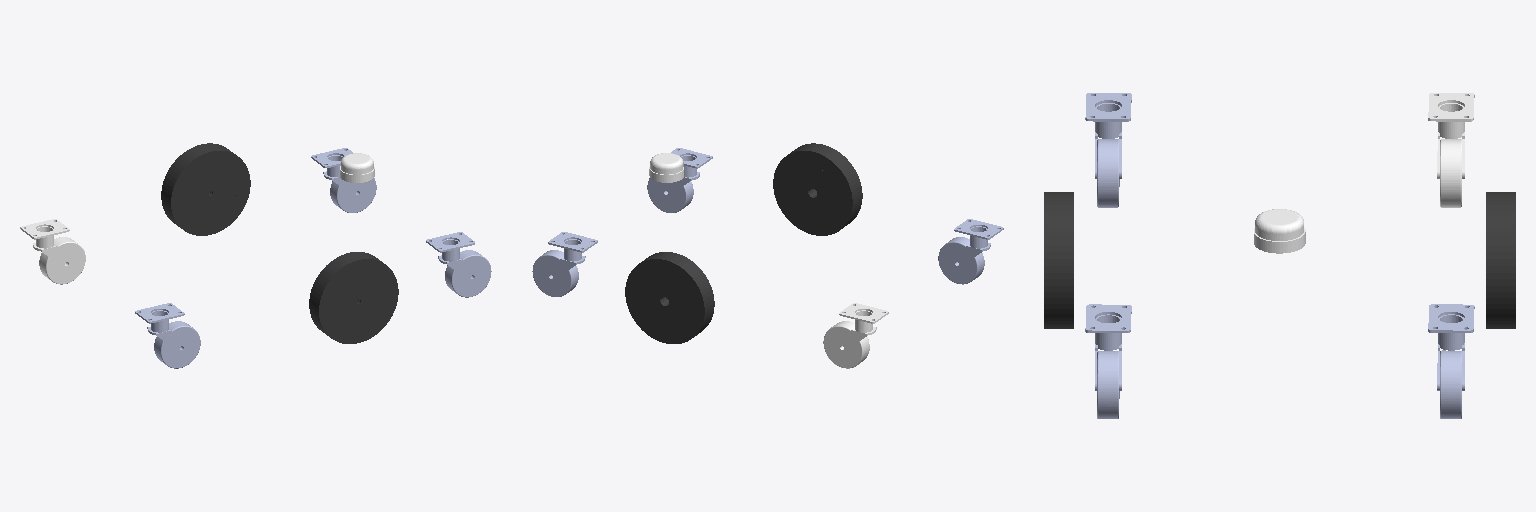
robot.urdf — zmr_300:
<?xml version="1.0" encoding="utf-8"?>
<!-- This URDF was automatically created by SolidWorks to URDF Exporter! Originally created by [author] ([email redacted]) 
     Commit Version: 1.6.0-1-g15f4949  Build Version: 1.6.7594.29634
     For more information, please see http://wiki.ros.org/sw_urdf_exporter -->
<robot
  name="zmr_300">
  <link
    name="base_link">
    <inertial>
      <origin
        xyz="0 0 0"
        rpy="0 0 0" />
      <mass
        value="35.875" />
      <inertia
        ixx="0.2429"
        ixy="2.3606E-05"
        ixz="-0.0096871"
        iyy="0.62719"
        iyz="-6.546E-05"
        izz="0.78567" />
    </inertial>
    <visual>
      <origin
        xyz="0 0 0"
        rpy="0 0 0" />
      <geometry>
        <mesh
          filename="package://zmr_simulation/meshes/FULL_ASSEM_FOR_URDF_2_chassis.STL" />
      </geometry>
      <material
        name="">
        <color
          rgba="0.52941 0.54902 0.54902 1" />
      </material>
    </visual>
    <collision>
      <origin
        xyz="0 0 0"
        rpy="0 0 0" />
      <geometry>
        <mesh
          filename="package://zmr_simulation/meshes/FULL_ASSEM_FOR_URDF_2_chassis.STL" />
      </geometry>
    </collision>
  </link>
  <link
    name="rplidar">
    <inertial>
      <origin
        xyz="0.0 0.0 0.0"
        rpy="0 0 0" />
      <mass
        value="0.175296926046256" />
      <inertia
        ixx="8.27011319738944E-05"
        ixy="2.11007298866964E-10"
        ixz="-2.6283661255278E-09"
        iyy="8.26845677328549E-05"
        iyz="-3.34772810962019E-11"
        izz="0.000118170802275553" />
    </inertial>
    <visual>
      <origin
        xyz="0.0 0.0 0.0"
        rpy="0 0 0" />
      <geometry>
        <mesh
          filename="package://zmr_simulation/meshes/LIDARS_A3M1.STL" />
      </geometry>
      <material
        name="">
        <color
          rgba="1 1 1 1" />
      </material>
    </visual>
    <collision>
      <origin
        xyz="0.0 0.0 0.0"
        rpy="0 0 0" />
      <geometry>
        <mesh
          filename="package://zmr_simulation/meshes/LIDARS_A3M1.STL" />
      </geometry>
    </collision>
  </link>
  <joint
    name="rplidar_jw"
    type="fixed">
    <origin
      xyz="0.21784 -0.00054319 0.14722"
      rpy="0 0 0.0067981" />
    <parent
      link="base_link" />
    <child
      link="rplidar" />
    <axis
      xyz="0 0 0" />
  </joint>
  <link
    name="front_camera">
    <inertial>
      <origin
        xyz="0.0 0.0 0.0"
        rpy="0 0 0" />
      <mass
        value="0.0296419080966934" />
      <inertia
        ixx="2.1945697057995E-05"
        ixy="2.75098605906139E-07"
        ixz="7.68828390839042E-11"
        iyy="1.35790794083745E-06"
        iyz="1.71488218344616E-09"
        izz="2.09760903129088E-05" />
    </inertial>
    <visual>
      <origin
        xyz="0 0 0"
        rpy="0 0 0" />
      <geometry>
        <mesh
          filename="package://zmr_simulation/meshes/Intel_RealSense_Depth_Camera_D415.STL" />
      </geometry>
      <material
        name="">
        <color
          rgba="0.792156862745098 0.819607843137255 0.933333333333333 1" />
      </material>
    </visual>
    <collision>
      <origin
        xyz="0 0 0"
        rpy="0 0 0" />
      <geometry>
        <mesh
          filename="package://zmr_simulation/meshes/Intel_RealSense_Depth_Camera_D415.STL" />
      </geometry>
    </collision>
  </link>
  <joint
    name="front_camera_jw"
    type="fixed">
    <origin
      xyz="0.44569 -0.00079521 0.11457"
      rpy="0 0 0" />
    <parent
      link="base_link" />
    <child
      link="front_camera" />
    <axis
      xyz="0 0 0" />
    <limit
      lower="0"
      upper="0"
      effort="0"
      velocity="0" />
  </joint>
  <link
    name="right_wheel">
    <inertial>
      <origin
        xyz="0.0 0.0 0.0"
        rpy="0 0 0" />
      <mass
        value="2.4188326460671" />
      <inertia
        ixx="0.00532198314714701"
        ixy="7.74566669972607E-08"
        ixz="1.0842021724855E-19"
        iyy="0.00989479484108058"
        iyz="-2.14548867789717E-19"
        izz="0.00532175463430367" />
    </inertial>
    <visual>
      <origin
        xyz="0 0 0"
        rpy="0 0 0" />
      <geometry>
        <mesh
          filename="package://zmr_simulation/meshes/200MM_WHEEL.STL" />
      </geometry>
      <material
        name="">
        <color
          rgba="0.298039215686275 0.298039215686275 0.298039215686275 1" />
      </material>
    </visual>
    <collision>
      <origin
        xyz="0 0 0"
        rpy="0 0 0" />
      <geometry>
        <mesh
          filename="package://zmr_simulation/meshes/200MM_WHEEL.STL" />
      </geometry>
    </collision>
  </link>
  <joint
    name="right_wheel_jw"
    type="continuous">
    <origin
      xyz="0.023896 -0.32204 0.0024265"
      rpy="0.0 0.0 0.0" />
    <parent
      link="base_link" />
    <child
      link="right_wheel" />
    <axis
      xyz="0 1 0" />
    <limit
      lower="0"
      upper="0"
      effort="0"
      velocity="0" />
  </joint>
  <link
    name="left_wheel">
    <inertial>
      <origin
        xyz="0.0 0.0 0.0"
        rpy="0 0 0" />
      <mass
        value="2.41883264606711" />
      <inertia
        ixx="0.00532192928370771"
        ixy="-6.77153382272037E-08"
        ixz="9.69908118051538E-08"
        iyy="0.0098947948410806"
        iyz="-3.76054282148217E-08"
        izz="0.00532180849774299" />
    </inertial>
    <visual>
      <origin
        xyz="0 0 0"
        rpy="0 0 0" />
      <geometry>
        <mesh
          filename="package://zmr_simulation/meshes/200MM_WHEEL.STL" />
      </geometry>
      <material
        name="">
        <color
          rgba="0.298039215686275 0.298039215686275 0.298039215686275 1" />
      </material>
    </visual>
    <collision>
      <origin
        xyz="0 0 0"
        rpy="0 0 0" />
      <geometry>
        <mesh
          filename="package://zmr_simulation/meshes/200MM_WHEEL.STL" />
      </geometry>
    </collision>
  </link>
  <joint
    name="left_wheel_jw"
    type="continuous">
    <origin
      xyz="0.023896 0.32204 0.0024265"
      rpy="0.0 0.0 0.0" />
    <parent
      link="base_link" />
    <child
      link="left_wheel" />
    <axis
      xyz="0 1 0" />
    <limit
      lower="0"
      upper="0"
      effort="0"
      velocity="0" />
  </joint>
  <link
    name="caster_1">
    <inertial>
      <origin
        xyz="0 0 0"
        rpy="0 0 0" />
      <mass
        value="0.018958573506565" />
      <inertia
        ixx="1.56337474702378E-05"
        ixy="2.02764174288022E-06"
        ixz="2.38568772213739E-06"
        iyy="8.73695659541672E-06"
        iyz="1.53250795887146E-06"
        izz="2.21394966213367E-05" />
    </inertial>
    <visual>
      <origin
        xyz="0 0 0"
        rpy="0 0 0" />
      <geometry>
        <mesh
          filename="package://zmr_simulation/meshes/castor_wheel_assembly.STL" />
      </geometry>
      <material
        name="">
        <color
          rgba="0.792156862745098 0.819607843137255 0.933333333333333 1" />
      </material>
    </visual>
    <collision>
      <origin
        xyz="0 0 0"
        rpy="0 0 0" />
      <geometry>
        <mesh
          filename="package://zmr_simulation/meshes/castor_wheel_assembly.STL" />
      </geometry>
    </collision>
  </link>
  <joint
    name="caster_1_jw"
    type="fixed">
    <origin
      xyz="0.309 0.250 0.04078"
      rpy="0 0 0" />
    <parent
      link="base_link" />
    <child
      link="caster_1" />
    <axis
      xyz="0 0 0" />
  </joint>
  <link
    name="caster_2">
    <inertial>
      <origin
        xyz="0 0 0"
        rpy="0 0 0" />
      <mass
        value="0.0189585735065647" />
      <inertia
        ixx="1.14636909531473E-05"
        ixy="-1.69114384042082E-06"
        ixz="-4.62237227716556E-06"
        iyy="2.03868625080823E-05"
        iyz="3.52210167696031E-06"
        izz="1.4659647225761E-05" />
    </inertial>
    <visual>
      <origin
        xyz="0 0 0"
        rpy="0 0 0" />
      <geometry>
        <mesh
          filename="package://zmr_simulation/meshes/castor_wheel_assembly.STL" />
      </geometry>
      <material
        name="">
        <color
          rgba="0.792156862745098 0.819607843137255 0.933333333333333 1" />
      </material>
    </visual>
    <collision>
      <origin
        xyz="0 0 0"
        rpy="0 0 0" />
      <geometry>
        <mesh
          filename="package://zmr_simulation/meshes/castor_wheel_assembly.STL" />
      </geometry>
    </collision>
  </link>
  <joint
    name="caster_2_jw"
    type="fixed">
    <origin
      xyz="0.309 -0.250 0.04054"
      rpy="0 0 0" />
    <parent
      link="base_link" />
    <child
      link="caster_2" />
    <axis
      xyz="0 0 0" />
  </joint>
  <link
    name="caster_3">
    <inertial>
      <origin
        xyz="0 0 0"
        rpy="0 0 0" />
      <mass
        value="0.0189585735065647" />
      <inertia
        ixx="1.54878407796619E-05"
        ixy="2.2688920672233E-06"
        ixz="2.14959085818461E-06"
        iyy="9.03727235048867E-06"
        iyz="2.32183265568343E-06"
        izz="2.198508755684E-05" />
    </inertial>
    <visual>
      <origin
        xyz="0 0 0"
        rpy="0 0 0" />
      <geometry>
        <mesh
          filename="package://zmr_simulation/meshes/castor_wheel_assembly.STL" />
      </geometry>
      <material
        name="">
        <color
          rgba="0.792156862745098 0.819607843137255 0.933333333333333 1" />
      </material>
    </visual>
    <collision>
      <origin
        xyz="0 0 0"
        rpy="0 0 0" />
      <geometry>
        <mesh
          filename="package://zmr_simulation/meshes/castor_wheel_assembly.STL" />
      </geometry>
    </collision>
  </link>
  <joint
    name="caster_3_jw"
    type="fixed">
    <origin
      xyz="-0.422 -0.250 0.04031"
      rpy="0 0 0" />
    <parent
      link="base_link" />
    <child
      link="caster_3" />
    <axis
      xyz="0 0 0" />
  </joint>
  <link
    name="caster_4">
    <inertial>
      <origin
        xyz="0 0 0"
        rpy="0 0 0" />
      <mass
        value="0" />
      <inertia
        ixx="0"
        ixy="0"
        ixz="0"
        iyy="0"
        iyz="0"
        izz="0" />
    </inertial>
    <visual>
      <origin
        xyz="0 0 0"
        rpy="0 0 0" />
      <geometry>
        <mesh
          filename="package://zmr_simulation/meshes/castor_wheel_assembly.STL" />
      </geometry>
      <material
        name="">
        <color
          rgba="1 1 1 1" />
      </material>
    </visual>
    <collision>
      <origin
        xyz="0 0 0"
        rpy="0 0 0" />
      <geometry>
        <mesh
          filename="package://zmr_simulation/meshes/castor_wheel_assembly.STL" />
      </geometry>
    </collision>
  </link>
  <joint
    name="caster_4_jw"
    type="fixed">
    <origin
      xyz="-0.422 0.250 0.04031"
      rpy="0 0 0" />
    <parent
      link="base_link" />
    <child
      link="caster_4" />
    <axis
      xyz="0 0 0" />
  </joint>
  
  <link name="imu_link"/>
  <joint name="imu_joint" type="fixed">
    <axis xyz="1 0 0"/>      
    <origin xyz="0 0 0"/>
    <parent link="base_link"/>
    <child link="imu_link"/>
  </joint>

  <!-- Differential Drive plugin-->
  <gazebo>
    <plugin name="differential_drive_controller" filename="libgazebo_ros_diff_drive.so">

      <!-- Plugin update rate in Hz -->
      <updateRate>20</updateRate>

      <!-- Name of left joint, defaults to `left_joint` -->
      <leftJoint>left_wheel_jw</leftJoint>

      <!-- Name of right joint, defaults to `right_joint` -->
      <rightJoint>right_wheel_jw</rightJoint>

      <!-- The distance from the center of one wheel to the other, in meters, defaults to 0.34 m -->
      <wheelSeparation>0.6</wheelSeparation>

      <!-- Diameter of the wheels, in meters, defaults to 0.15 m -->
      <wheelDiameter>0.2</wheelDiameter>

      <!-- Wheel acceleration, in rad/s^2, defaults to 0.0 rad/s^2 -->
      <wheelAcceleration>1.0</wheelAcceleration>

      <!-- Maximum torque which the wheels can produce, in Nm, defaults to 5 Nm -->
      <wheelTorque>20</wheelTorque>

      <!-- Topic to receive geometry_msgs/Twist message commands, defaults to `cmd_vel` -->
      <commandTopic>cmd_vel</commandTopic>

      <!-- Topic to publish nav_msgs/Odometry messages, defaults to `odom` -->
      <odometryTopic>odom</odometryTopic>

      <!-- Odometry frame, defaults to `odom` -->
      <odometryFrame>odom</odometryFrame>

      <!-- Robot frame to calculate odometry from, defaults to `base_footprint` -->
      <robotBaseFrame>base_link</robotBaseFrame>

      <!-- Odometry source, 0 for ENCODER, 1 for WORLD, defaults to WORLD -->
      <odometrySource>WORLD</odometrySource>

      <!-- Set to true to publish transforms for the wheel links, defaults to false -->
      <publishWheelTF>true</publishWheelTF>

      <!-- Set to true to publish transforms for the odometry, defaults to true -->
      <publishOdom>true</publishOdom>

      <!-- Set to true to publish sensor_msgs/JointState on /joint_states for the wheel joints, defaults to false -->
      <publishWheelJointState>true</publishWheelJointState>

      <!-- Set to true to swap right and left wheels, defaults to true -->
      <legacyMode>false</legacyMode>
    </plugin>
  </gazebo>

  <!-- GPU lidar Plugin -->
  <gazebo reference="rplidar">
    <sensor type="gpu_ray" name="lidar_sensor">
      <pose>0 0 0 0 0 0</pose>
      <visualize>false</visualize>
      <update_rate>40</update_rate>
      <ray>
        <scan>
          <horizontal>
            <samples>720</samples>
            <resolution>1</resolution>
            <min_angle>-3.14</min_angle>
            <max_angle>3.14</max_angle>
          </horizontal>
        </scan>
        <range>
          <min>0.10</min>
          <max>30.0</max>
          <resolution>0.01</resolution>
        </range>
        <noise>
          <type>gaussian</type>
          <!-- Noise parameters based on published spec for Hokuyo laser
               achieving "+-30mm" accuracy at range < 10m.  A mean of 0.0m and
               stddev of 0.01m will put 99.7% of samples within 0.03m of the true
               reading. -->
          <mean>0.0</mean>
          <stddev>0.01</stddev>
        </noise>
      </ray>
      <plugin name="lidar_controller" filename="libgazebo_ros_gpu_laser.so">
        <topicName>/scan</topicName>
        <frameName>rplidar</frameName>
      </plugin>
    </sensor>
  </gazebo>

  <!-- Depth Camera plugin-->
  <gazebo reference="front_camera">
    <sensor name="front_cameraa" type="depth">
      <update_rate>20</update_rate>
      <camera>
        <horizontal_fov>1.047198</horizontal_fov>
        <image>
          <width>640</width>
          <height>480</height>
          <format>R8G8B8</format>
        </image>
        <clip>
          <near>0.01</near>
          <far>20</far>
        </clip>
      </camera>
      <plugin name="front_camera_controller" filename="libgazebo_ros_camera.so">
        <baseline>0.2</baseline>
        <alwaysOn>true</alwaysOn>
        <updateRate>1.0</updateRate>
        <cameraName>front_camera_ir</cameraName>
        <imageTopicName>/front_camera/color/image_raw</imageTopicName>
        <cameraInfoTopicName>/front_camera/color/camera_info</cameraInfoTopicName>
        <depthImageTopicName>/front_camera/depth/image_raw</depthImageTopicName>
        <depthImageInfoTopicName>/front_camera/depth/camera_info</depthImageInfoTopicName>
        <pointCloudTopicName>/front_camera/depth/points</pointCloudTopicName>
        <frameName>front_camera</frameName>
        <pointCloudCutoff>0.5</pointCloudCutoff>
        <pointCloudCutoffMax>3.0</pointCloudCutoffMax>
        <distortionK1>0.00000001</distortionK1>
        <distortionK2>0.00000001</distortionK2>
        <distortionK3>0.00000001</distortionK3>
        <distortionT1>0.00000001</distortionT1>
        <distortionT2>0.00000001</distortionT2>
        <CxPrime>0</CxPrime>
        <Cx>0</Cx>
        <Cy>0</Cy>
        <focalLength>0</focalLength>
        <hackBaseline>0</hackBaseline>
      </plugin>
    </sensor>
  </gazebo>
  
	  <!-- IMU SENSOR -->
	<gazebo reference="imu_link">
	  <gravity>true</gravity>
	  <sensor name="imu_sensor" type="imu">
	    <always_on>true</always_on>
	    <update_rate>100</update_rate>
	    <visualize>true</visualize>
	    <topic>imu_data_plugin</topic>
	    <plugin filename="libgazebo_ros_imu_sensor.so" name="imu_plugin">
	      <topicName>imu</topicName>
	      <bodyName>imu_link</bodyName>
	      <updateRateHZ>10.0</updateRateHZ>
	      <gaussianNoise>0.0</gaussianNoise>
	      <xyzOffset>0 0 0</xyzOffset>
	      <rpyOffset>0 0 0</rpyOffset>
	      <frameName>imu_link</frameName>
	    </plugin>
	    <pose>0 0 0 0 0 0</pose>
	  </sensor>
	</gazebo>
</robot>

--- What the picture shows (computed from the rendered views, not written in the file) ---
The picture shows the robot from 3 angles, left to right: view 1: azimuth 30°, elevation 25°; view 2: azimuth 150°, elevation 25°; view 3: azimuth 270°, elevation 25°; orthographic projection.
Robot: zmr_300 — 10 links, 9 joints (2 continuous, 7 fixed); root link base_link; default pose: every joint at zero.
Links seen in each view (by area): view 1: left_wheel, right_wheel, caster_3, caster_4, caster_2, caster_1, rplidar; view 2: right_wheel, left_wheel, caster_4, caster_1, caster_3, caster_2, rplidar; view 3: right_wheel, left_wheel, caster_4, caster_1, caster_3, caster_2, rplidar.
Link boxes in pixels (bbox=[...]): left_wheel: bbox=[161, 143, 250, 235]; right_wheel: bbox=[309, 252, 398, 343]; caster_3: bbox=[135, 303, 200, 368]; caster_4: bbox=[20, 219, 85, 284]; caster_2: bbox=[426, 232, 491, 297]; caster_1: bbox=[311, 148, 376, 212]; rplidar: bbox=[340, 153, 374, 182]; right_wheel: bbox=[773, 143, 862, 235]; left_wheel: bbox=[625, 252, 714, 343]; caster_4: bbox=[823, 303, 888, 368]; caster_1: bbox=[532, 232, 597, 296]; caster_3: bbox=[938, 219, 1003, 284]; caster_2: bbox=[647, 148, 712, 212]; rplidar: bbox=[649, 153, 683, 182]; right_wheel: bbox=[1044, 192, 1073, 328]; left_wheel: bbox=[1486, 192, 1515, 328]; caster_4: bbox=[1428, 93, 1474, 207]; caster_1: bbox=[1428, 304, 1474, 418]; caster_3: bbox=[1085, 93, 1131, 207]; caster_2: bbox=[1085, 304, 1131, 418]; rplidar: bbox=[1254, 209, 1305, 253].
Size in the robot's own frame: 0.8704 by 0.6871 by 0.2597 metres.
7 mesh visuals loaded from 5 distinct referenced files (3 binary STL); not drawn: 2 (reference not matched to a file when rendering).
